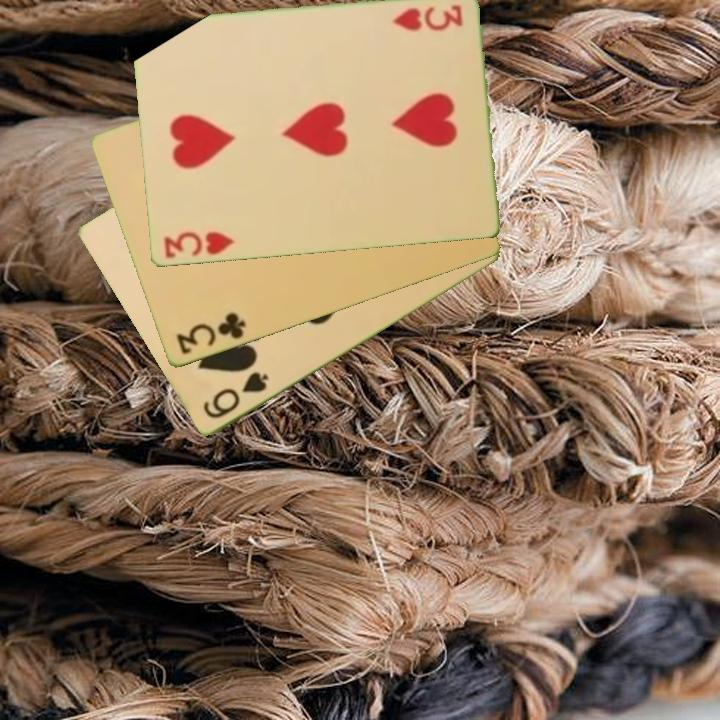3c: (172, 309, 249, 358)
3h: (389, 1, 465, 35), (160, 229, 236, 262)
6s: (199, 368, 272, 422)
